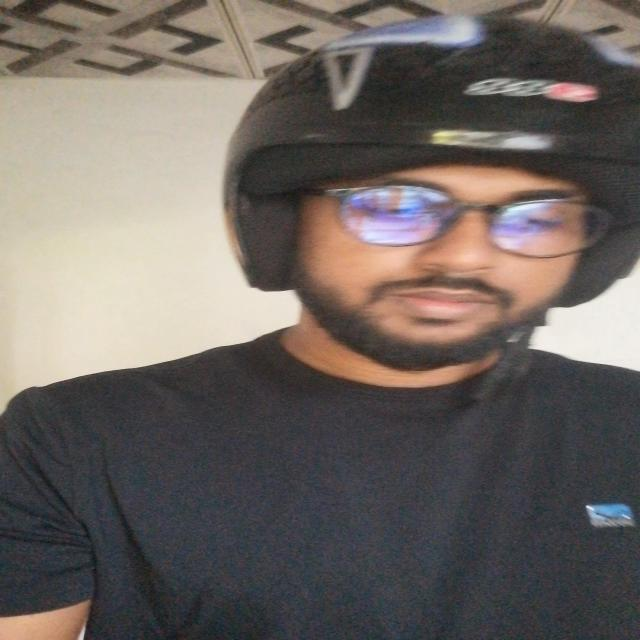Helmet_Wearer: (195, 0, 640, 446)
Person: (16, 27, 639, 640)
